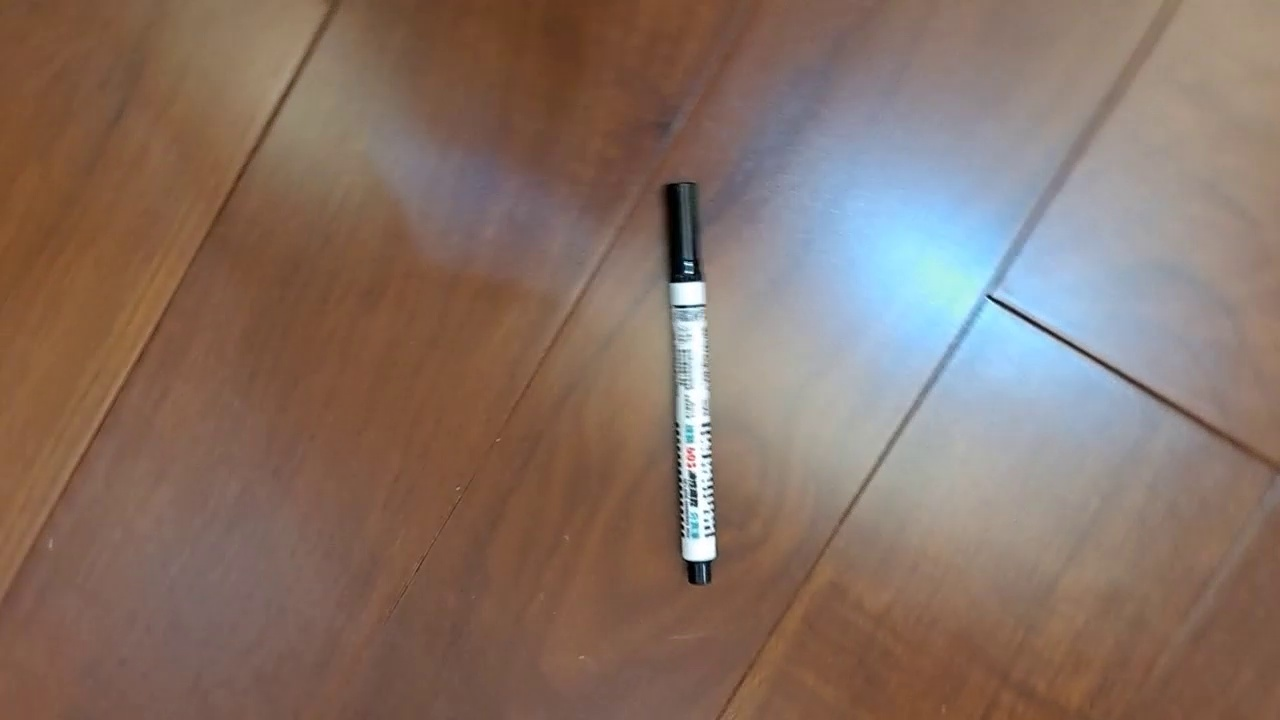pen: (661, 179, 720, 587)
